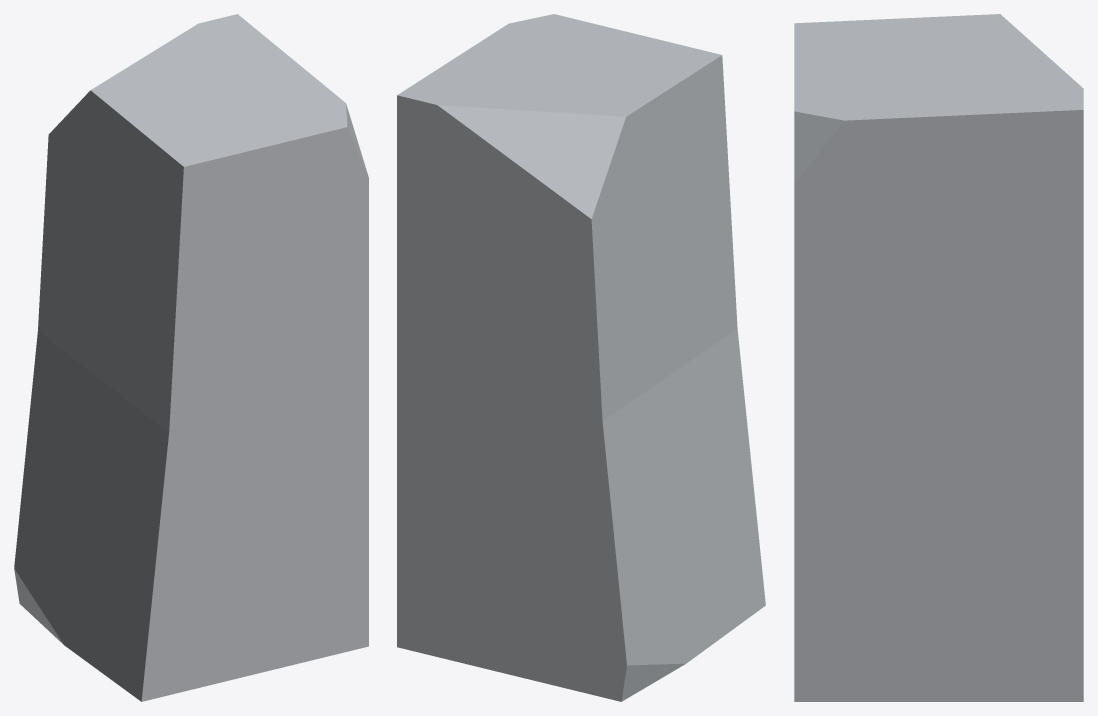
The model's file is Rock_Square_m_14.fbx.
The picture shows the model from 3 angles, left to right: view 1: azimuth 30°, elevation 25°; view 2: azimuth 150°, elevation 25°; view 3: azimuth 270°, elevation 25°; orthographic projection. The views are drawn at different scales.
Visible parts, largest first — view 1: Rock_Square_m_14; view 2: Rock_Square_m_14; view 3: Rock_Square_m_14.
Boxes of the visible parts, <box> form: Rock_Square_m_14: <box>14,14,368,701</box>; Rock_Square_m_14: <box>397,14,765,701</box>; Rock_Square_m_14: <box>794,14,1083,701</box>.
Bounding box in the file's own units: 43.2 × 97.45 × 43.2.
